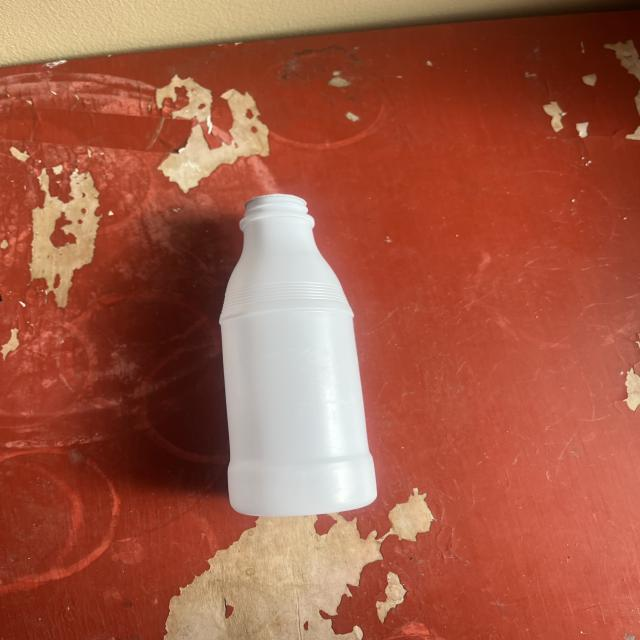HDPE_Bottle: (220, 195, 376, 516)
